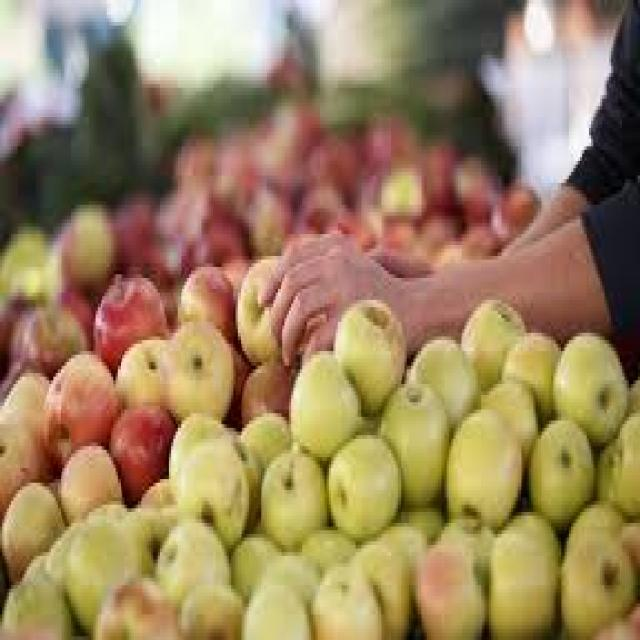organic waste: (63, 512, 154, 629), (558, 501, 636, 629), (442, 402, 520, 523), (486, 508, 556, 636), (38, 348, 111, 464), (551, 325, 625, 439), (156, 318, 233, 424), (324, 424, 398, 534), (173, 435, 244, 549), (91, 263, 169, 366), (376, 380, 444, 498), (331, 293, 402, 406), (286, 340, 358, 450), (414, 530, 484, 636), (258, 443, 326, 552), (527, 414, 593, 520), (404, 326, 476, 420), (109, 399, 175, 501), (153, 519, 229, 600), (496, 322, 558, 420), (56, 435, 122, 527), (0, 476, 60, 574), (460, 293, 524, 384), (351, 542, 411, 636), (93, 570, 178, 636), (234, 249, 282, 358), (306, 564, 378, 636), (167, 410, 229, 490), (593, 413, 638, 516), (0, 570, 69, 636), (478, 373, 536, 446), (242, 574, 309, 636), (176, 260, 233, 332), (0, 406, 38, 512), (62, 201, 111, 282), (20, 304, 84, 366), (176, 256, 233, 325), (178, 574, 240, 636), (302, 128, 353, 201), (113, 337, 167, 402), (240, 183, 287, 256), (109, 194, 155, 267), (373, 154, 427, 216), (0, 219, 47, 289), (453, 146, 500, 216), (229, 526, 278, 592), (489, 179, 538, 245), (240, 358, 287, 421), (269, 91, 318, 150), (418, 136, 458, 208), (231, 428, 260, 527), (196, 204, 244, 260), (173, 128, 218, 187), (126, 504, 166, 570), (264, 549, 320, 596), (216, 132, 264, 186), (242, 406, 289, 461), (378, 523, 424, 578), (367, 110, 413, 164), (294, 180, 342, 230), (264, 150, 309, 201), (13, 256, 60, 304), (298, 526, 353, 566), (46, 519, 78, 585), (433, 516, 491, 552), (151, 223, 191, 274), (54, 282, 94, 332), (158, 183, 200, 230), (247, 117, 282, 172), (56, 286, 94, 336), (416, 208, 458, 252), (0, 366, 47, 402), (0, 292, 27, 354), (136, 476, 173, 520), (462, 219, 500, 256), (376, 216, 418, 248), (80, 494, 131, 519), (338, 201, 371, 238), (9, 311, 27, 373), (431, 230, 462, 260), (356, 128, 374, 165), (624, 370, 638, 402)
